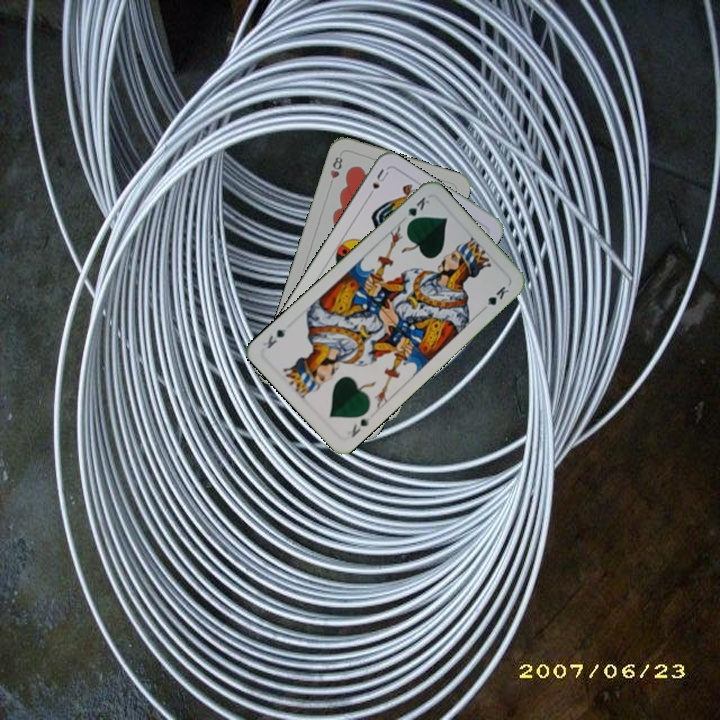GK: (403, 192, 432, 228), (347, 413, 373, 440)
H8: (325, 152, 345, 190)
SU: (363, 165, 391, 201)
